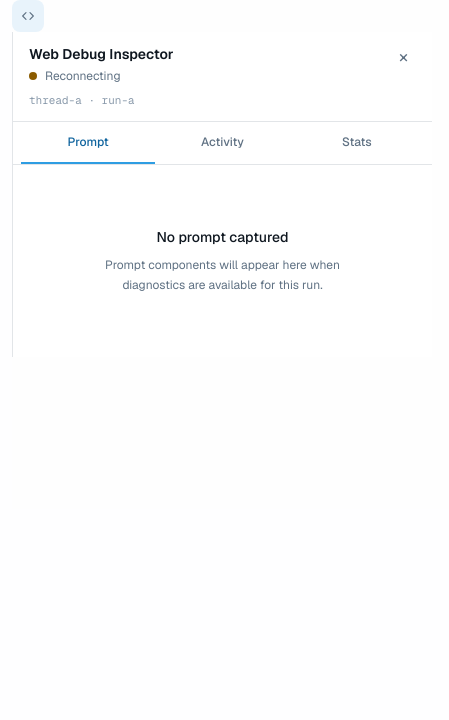
it: stats expose unavailable tool totals and browser-observed stream health
This screenshot has width=449, height=720.
Click the tab with test id "inspector-tab-stats": (357, 142) [290, 122, 424, 164]
(page scrolled)
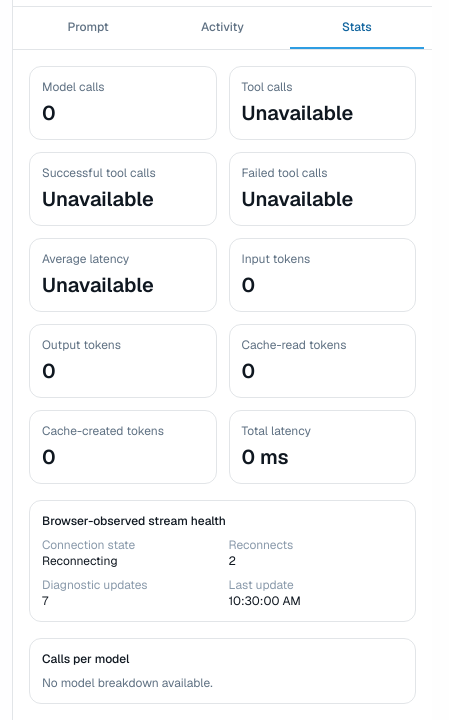
Now the element with test id "inspector-stats-content" is shown
Now the element with test id "inspector-stats-content" shows "Reconnecting", box [42, 552, 118, 568]
